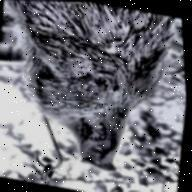boar: (0, 0, 186, 182)
